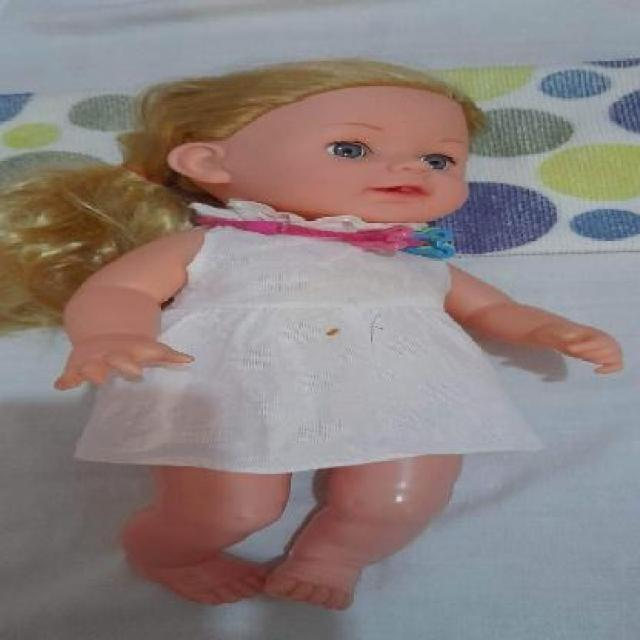non-dog: (3, 47, 626, 614)
